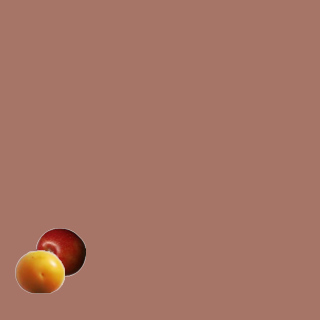Apple Braeburn: (35, 227, 85, 277)
Cherry Wax Yellow: (14, 246, 64, 296)
